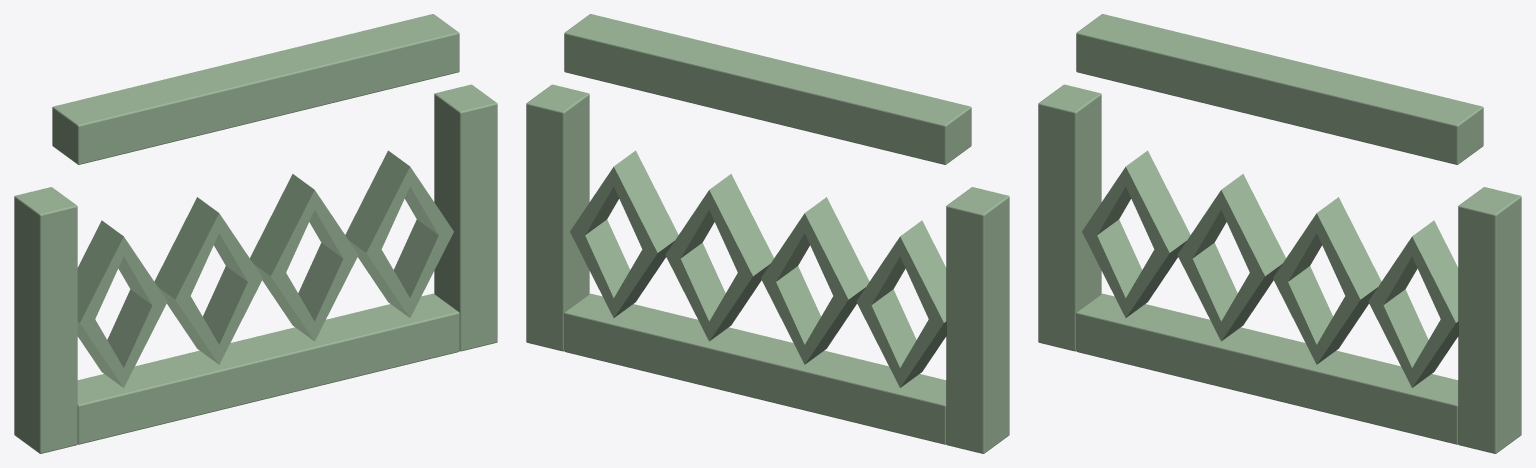
Rendered from source-edit.glb.
The picture shows the model from 3 angles, left to right: view 1: azimuth 30°, elevation 25°; view 2: azimuth 150°, elevation 25°; view 3: azimuth 330°, elevation 25°; orthographic projection.
Visible parts, largest first — view 1: VENT_FrameTop, VENT_FrameBottom, VENT_FrameSide, VENT_FrameSide.001, VENT_Diamond_3_0, VENT_Diamond_1_0, VENT_Diamond_2_0, VENT_Diamond_0_0, VENT_Diamond_2_2, VENT_Diamond_3_2, VENT_Diamond_1_2, VENT_Diamond_0_2 (+8 smaller); view 2: VENT_FrameTop, VENT_FrameBottom, VENT_FrameSide, VENT_FrameSide.001, VENT_Diamond_3_0, VENT_Diamond_1_0, VENT_Diamond_2_0, VENT_Diamond_0_0, VENT_Diamond_2_2, VENT_Diamond_3_2, VENT_Diamond_1_2, VENT_Diamond_0_2 (+8 smaller); view 3: VENT_FrameTop, VENT_FrameBottom, VENT_FrameSide.001, VENT_FrameSide, VENT_Diamond_0_1, VENT_Diamond_2_1, VENT_Diamond_1_1, VENT_Diamond_3_1, VENT_Diamond_1_3, VENT_Diamond_0_3, VENT_Diamond_2_3, VENT_Diamond_3_3 (+8 smaller).
Boxes of the visible parts, x1=… form: VENT_FrameTop: x1=52, y1=14, x2=459, y2=164; VENT_FrameBottom: x1=77, y1=293, x2=459, y2=444; VENT_FrameSide: x1=14, y1=187, x2=77, y2=453; VENT_FrameSide.001: x1=434, y1=84, x2=497, y2=351; VENT_Diamond_3_0: x1=345, y1=150, x2=410, y2=252; VENT_Diamond_1_0: x1=154, y1=197, x2=219, y2=299; VENT_Diamond_2_0: x1=250, y1=174, x2=314, y2=276; VENT_Diamond_0_0: x1=77, y1=220, x2=123, y2=322; VENT_Diamond_2_2: x1=298, y1=243, x2=358, y2=340; VENT_Diamond_3_2: x1=394, y1=219, x2=453, y2=317; VENT_Diamond_1_2: x1=203, y1=266, x2=262, y2=364; VENT_Diamond_0_2: x1=107, y1=289, x2=167, y2=387; VENT_FrameTop: x1=564, y1=14, x2=971, y2=164; VENT_FrameBottom: x1=564, y1=293, x2=946, y2=444; VENT_FrameSide: x1=946, y1=187, x2=1009, y2=453; VENT_FrameSide.001: x1=526, y1=84, x2=589, y2=351; VENT_Diamond_3_0: x1=613, y1=150, x2=678, y2=252; VENT_Diamond_1_0: x1=804, y1=197, x2=869, y2=299; VENT_Diamond_2_0: x1=709, y1=174, x2=773, y2=276; VENT_Diamond_0_0: x1=900, y1=220, x2=946, y2=322; VENT_Diamond_2_2: x1=665, y1=243, x2=725, y2=340; VENT_Diamond_3_2: x1=570, y1=219, x2=629, y2=317; VENT_Diamond_1_2: x1=761, y1=266, x2=820, y2=364; VENT_Diamond_0_2: x1=856, y1=289, x2=916, y2=387; VENT_FrameTop: x1=1076, y1=14, x2=1483, y2=164; VENT_FrameBottom: x1=1076, y1=293, x2=1458, y2=444; VENT_FrameSide.001: x1=1458, y1=187, x2=1521, y2=453; VENT_FrameSide: x1=1038, y1=84, x2=1101, y2=351; VENT_Diamond_0_1: x1=1125, y1=150, x2=1190, y2=252; VENT_Diamond_2_1: x1=1316, y1=197, x2=1381, y2=299; VENT_Diamond_1_1: x1=1221, y1=174, x2=1285, y2=276; VENT_Diamond_3_1: x1=1412, y1=220, x2=1458, y2=322; VENT_Diamond_1_3: x1=1177, y1=243, x2=1237, y2=340; VENT_Diamond_0_3: x1=1082, y1=219, x2=1141, y2=317; VENT_Diamond_2_3: x1=1273, y1=266, x2=1332, y2=364; VENT_Diamond_3_3: x1=1368, y1=289, x2=1428, y2=387.
Bounding box in the file's own units: 1.2 × 0.8 × 0.12.
